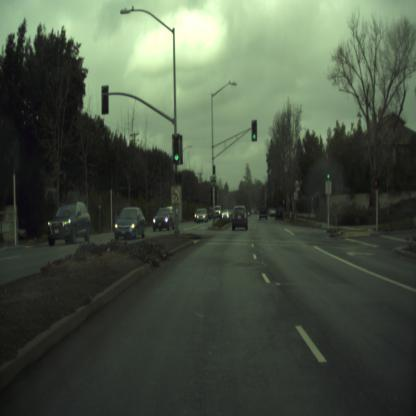Green: (173, 136, 179, 160), (251, 119, 257, 142), (212, 164, 216, 178), (326, 166, 330, 180)
